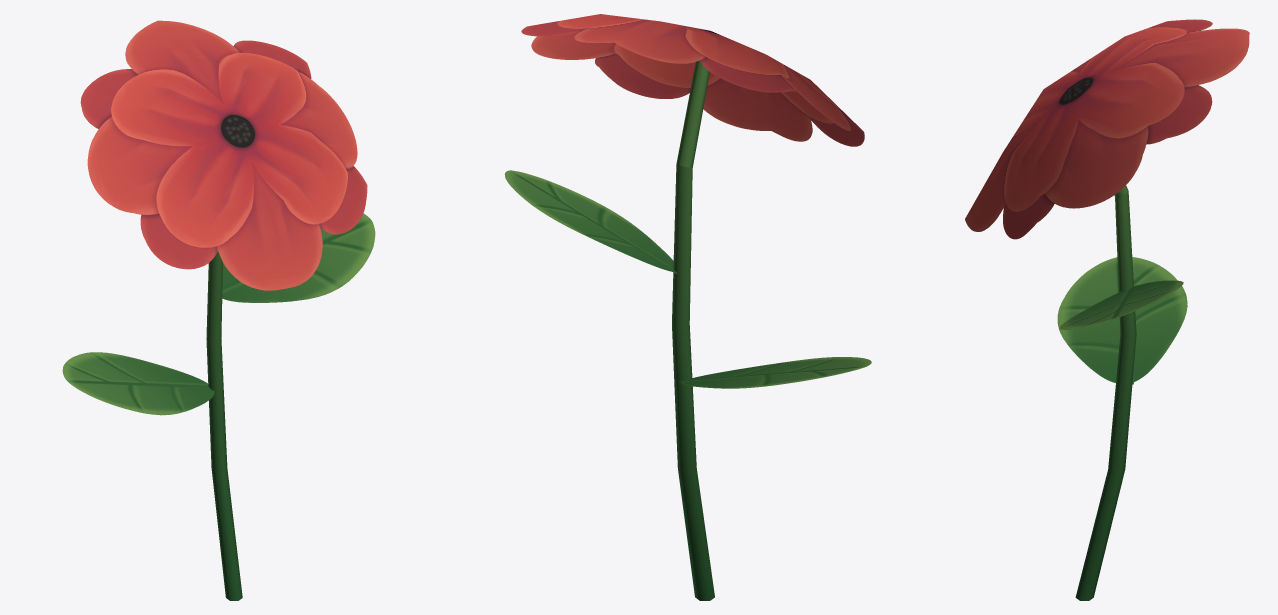
File: Flower-1.FBX
3 renders of one model, left to right at view 1: azimuth 30°, elevation 25°; view 2: azimuth 150°, elevation 25°; view 3: azimuth 270°, elevation 25°, orthographic. The views are drawn at different scales.
Parts seen in each view (by area): view 1: Flower #1; view 2: Flower #1; view 3: Flower #1.
Boxes of the visible parts, x1,y1,x2,y2 form: Flower #1: (62, 20, 375, 600); Flower #1: (504, 14, 871, 600); Flower #1: (965, 19, 1249, 600).
Bounding box in the file's own units: 16.67 × 26.55 × 13.06.
